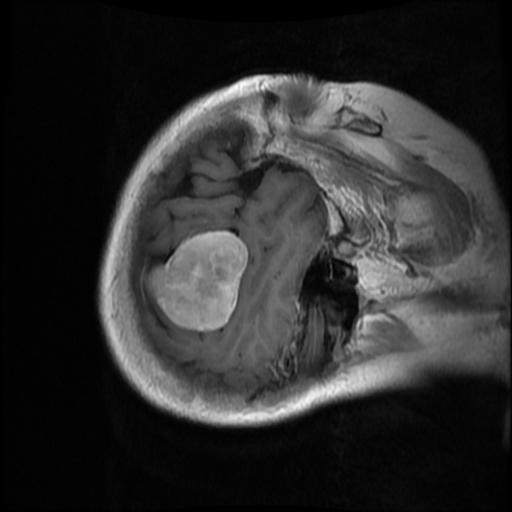meningioma: (146, 232, 249, 332)
